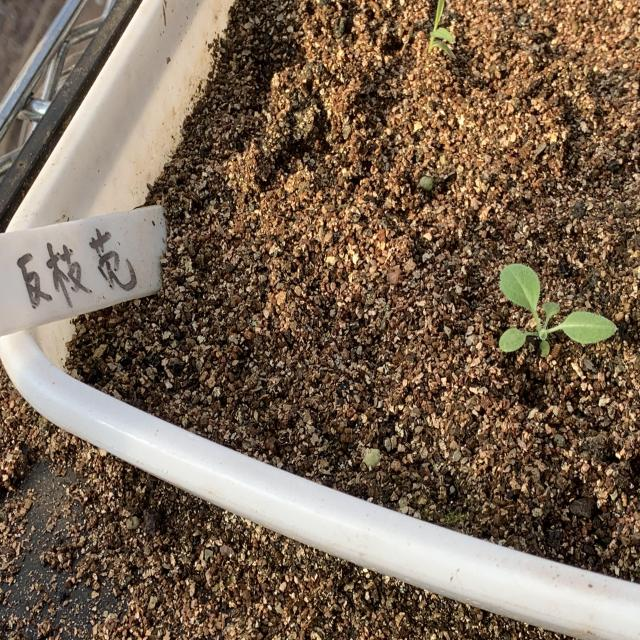horseweed: (467, 257, 615, 381)
